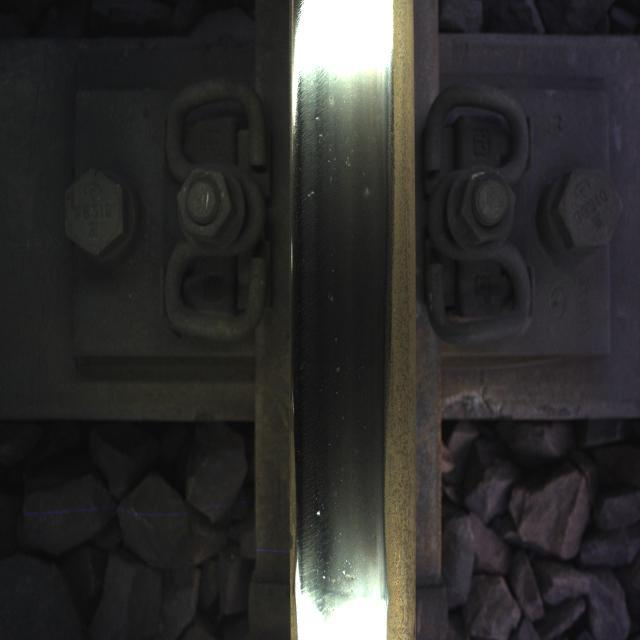normal: (294, 54, 368, 572)
